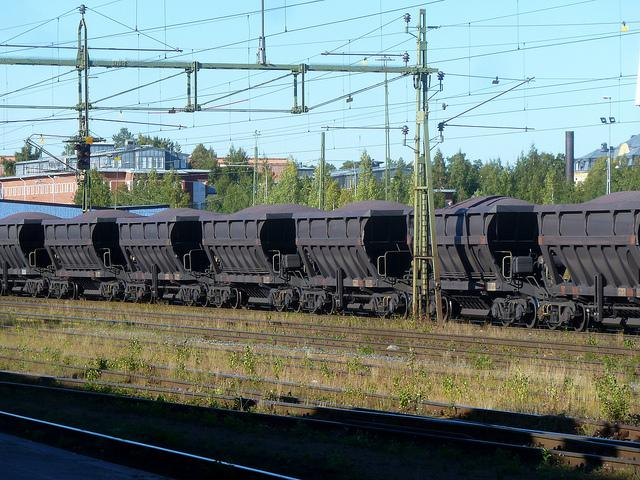Train: (0, 192, 640, 332)
